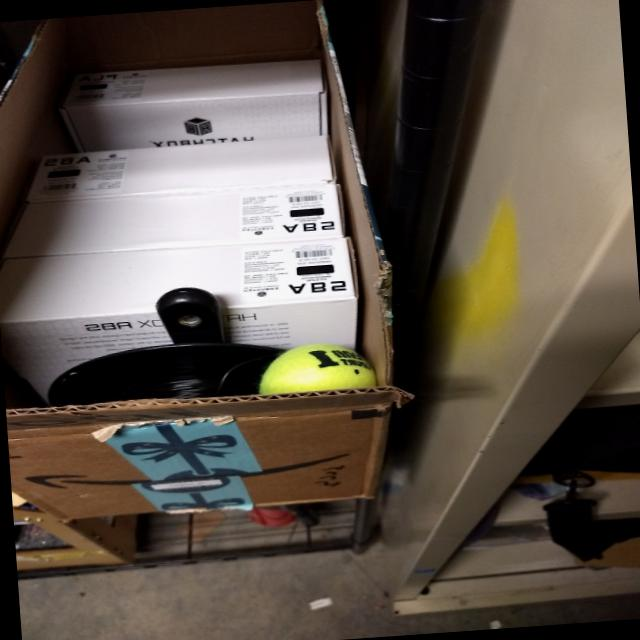Tennis Ball: (250, 338, 378, 398)
